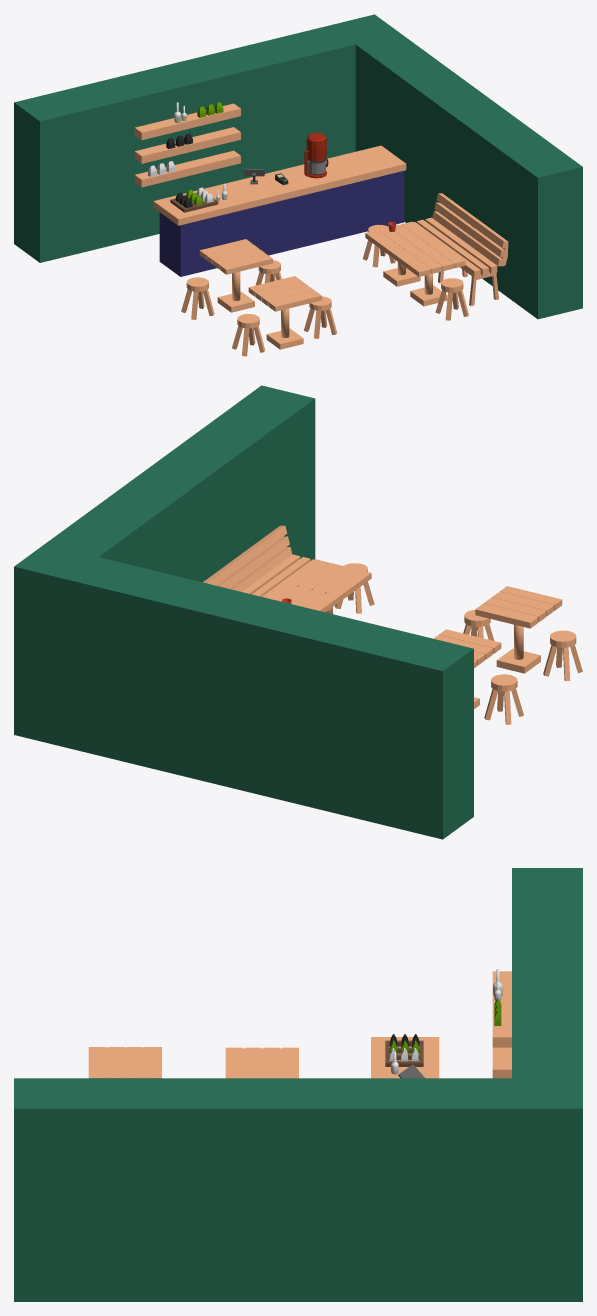
The picture shows the model from 3 angles, top to bottom: view 1: azimuth 30°, elevation 25°; view 2: azimuth 150°, elevation 25°; view 3: azimuth 270°, elevation 25°; orthographic projection. The views are drawn at different scales.
Parts seen in each view (by area): view 1: Walls, Bar, Bench, Shelves, Big Table, Table.001, Table, Dripper, Stool.005, Stool, Stool.002, Stool.003; view 2: Walls, Bench, Table.001, Big Table, Stool, Stool.002, Table, Stool.003; view 3: Walls, Table.001, Table, Shelves, Bar, Tray.
Boxes of the visible parts, x1,y1,x2,y2 form: Walls: (14,14,582,319); Bar: (153,145,406,276); Bench: (413,193,508,305); Shelves: (134,103,240,187); Big Table: (365,221,465,306); Table.001: (248,276,321,349); Table: (199,239,272,312); Dripper: (304,132,328,178); Stool.005: (435,278,468,320); Stool: (181,277,214,319); Stool.002: (232,314,265,356); Stool.003: (304,296,337,338); Walls: (14,385,473,839); Bench: (203,525,314,597); Table.001: (475,586,562,673); Big Table: (264,559,371,613); Stool: (484,674,523,724); Stool.002: (543,630,582,681); Table: (433,629,501,708); Stool.003: (463,610,494,640); Walls: (14,868,582,1301); Table.001: (88,1047,161,1078); Table: (225,1047,298,1078); Shelves: (492,971,511,1078); Bar: (371,1037,439,1078); Tray: (385,1040,423,1066).
Bounding box in the file's own units: 800 × 301 × 800.
